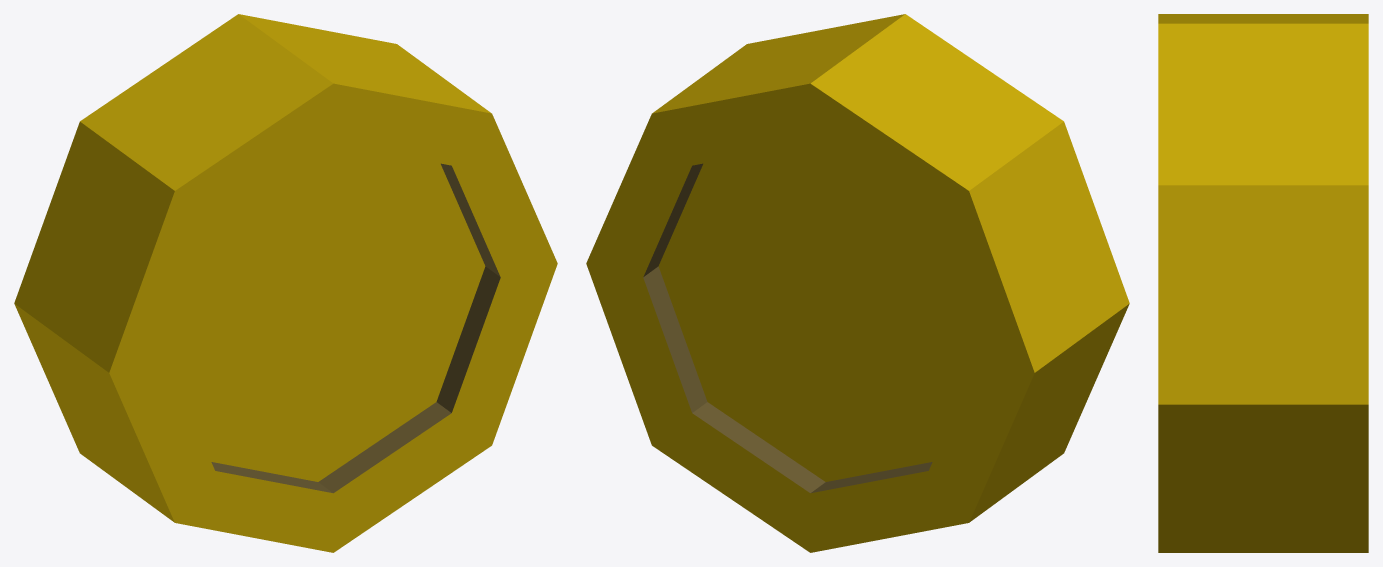
Rendered from coin.fbx.
The picture shows the model from 3 angles, left to right: view 1: azimuth 30°, elevation 25°; view 2: azimuth 150°, elevation 25°; view 3: azimuth 270°, elevation 25°; orthographic projection. The views are drawn at different scales.
Visible parts, largest first — view 1: coin; view 2: coin; view 3: coin.
Part boxes in pixels (x1=…): coin: x1=14, y1=14, x2=557, y2=552; coin: x1=586, y1=14, x2=1129, y2=552; coin: x1=1158, y1=14, x2=1368, y2=552.
Bounding box in the file's own units: 2.06 × 2.06 × 0.7572.
